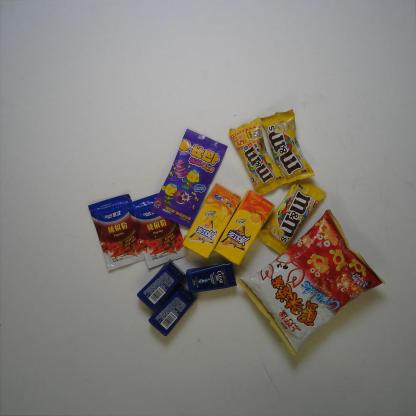Candy: (153, 124, 226, 230)
Chocolate: (252, 175, 327, 259), (226, 118, 291, 198), (262, 105, 318, 188)
Drink: (181, 182, 243, 261), (214, 189, 275, 266)
Personal Hygiene: (134, 256, 192, 315), (146, 282, 199, 338), (186, 260, 234, 298)
Puffed Food: (233, 205, 388, 358)
Seasoner: (128, 188, 188, 273), (82, 191, 144, 273)
